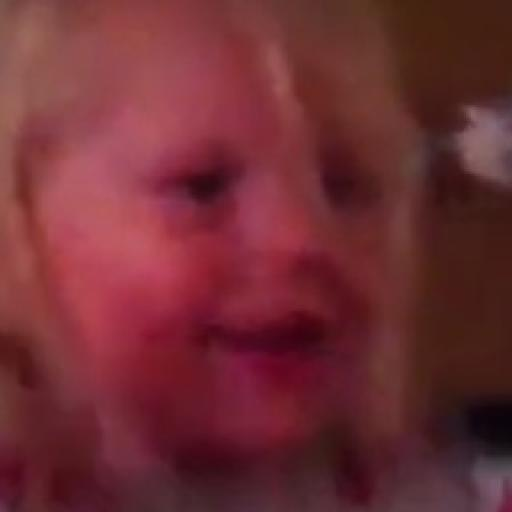Autism: (28, 4, 458, 456)
